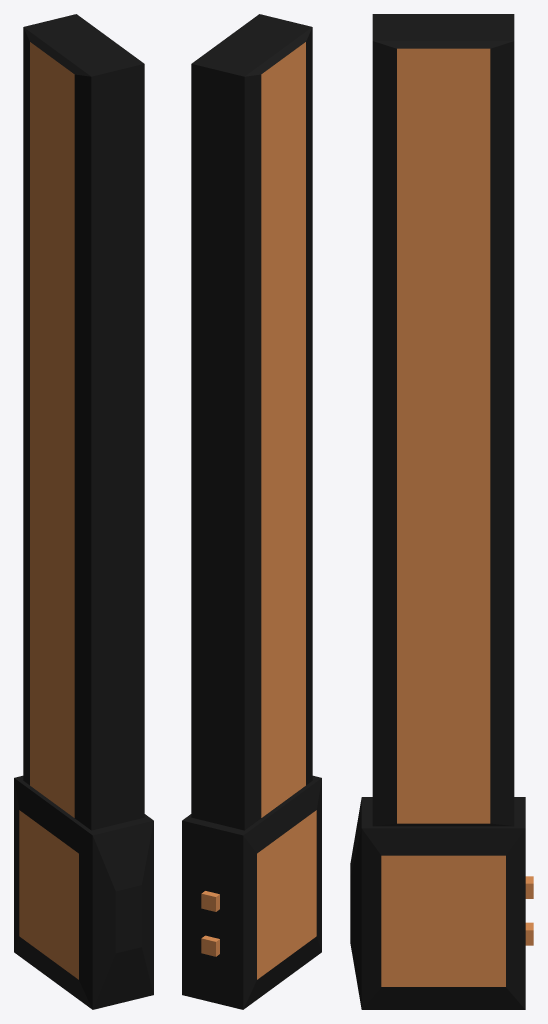
File: catSupport.fbx
The picture shows the model from 3 angles, left to right: view 1: azimuth 30°, elevation 25°; view 2: azimuth 150°, elevation 25°; view 3: azimuth 270°, elevation 25°; orthographic projection. The views are drawn at different scales.
Visible parts, largest first — view 1: CatSupportBeam; view 2: CatSupportBeam; view 3: CatSupportBeam.
Boxes of the visible parts, <box> form: CatSupportBeam: <box>14,14,153,1009</box>; CatSupportBeam: <box>182,14,321,1009</box>; CatSupportBeam: <box>350,14,533,1009</box>.
Size of the model in its own units: 22.78 by 49.84 by 290.
